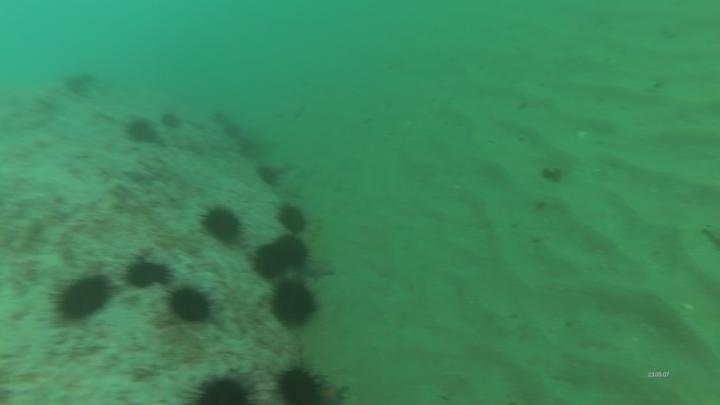echinus: (49, 272, 114, 325), (269, 279, 320, 330), (184, 371, 259, 404), (273, 363, 326, 404), (166, 284, 215, 326), (199, 203, 245, 246), (122, 256, 173, 291), (251, 241, 289, 281), (271, 234, 310, 271), (122, 115, 161, 147), (274, 202, 310, 236), (62, 69, 98, 98), (252, 159, 282, 186), (158, 109, 184, 132), (234, 133, 257, 155), (221, 120, 243, 141), (206, 109, 228, 130)
starfish: (312, 378, 351, 405), (301, 256, 337, 283), (120, 165, 162, 187)
